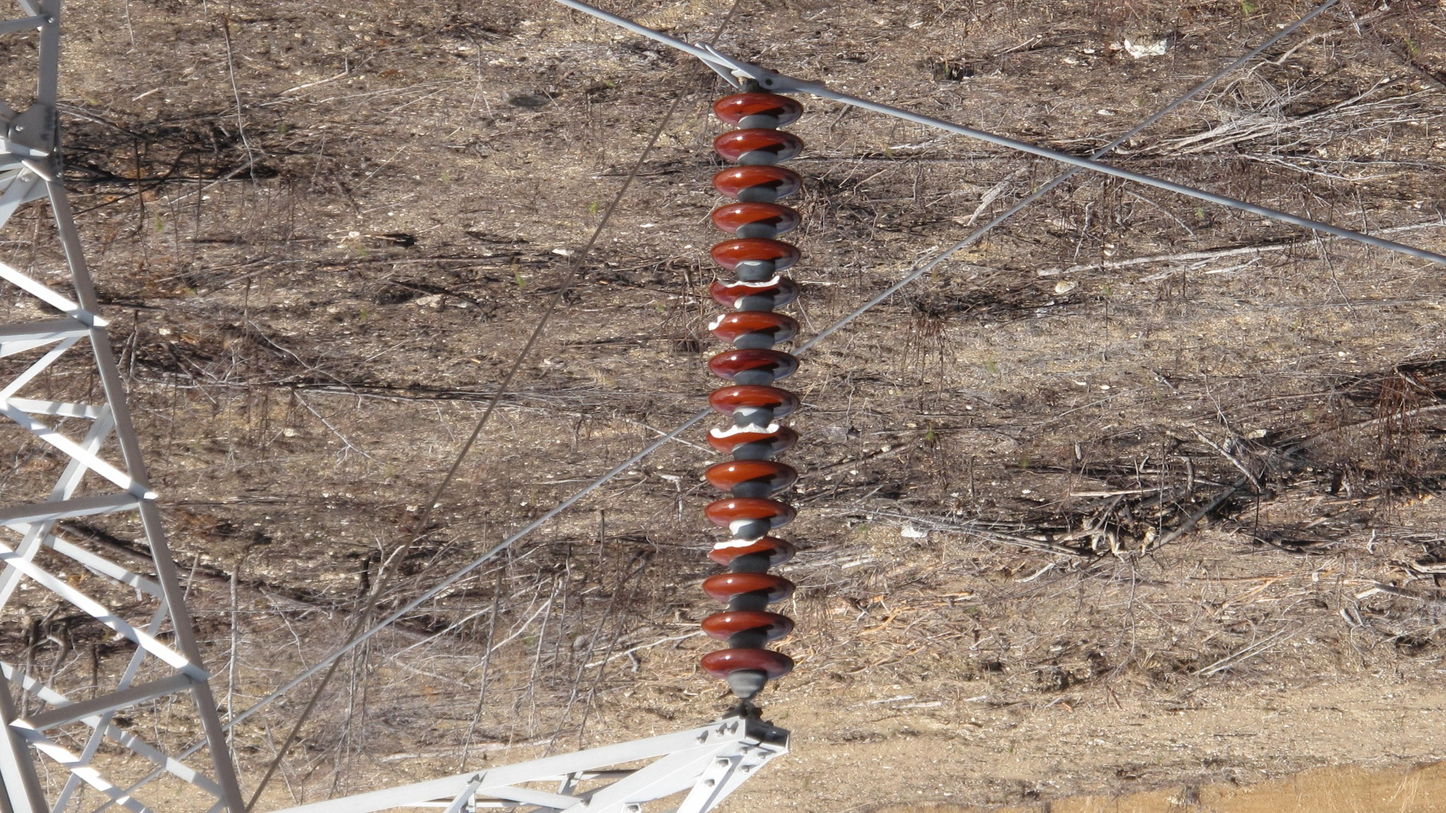insulator: (697, 88, 809, 687)
insulator_breakage: (705, 531, 769, 559), (707, 421, 782, 441), (714, 273, 786, 291), (706, 310, 728, 333)
